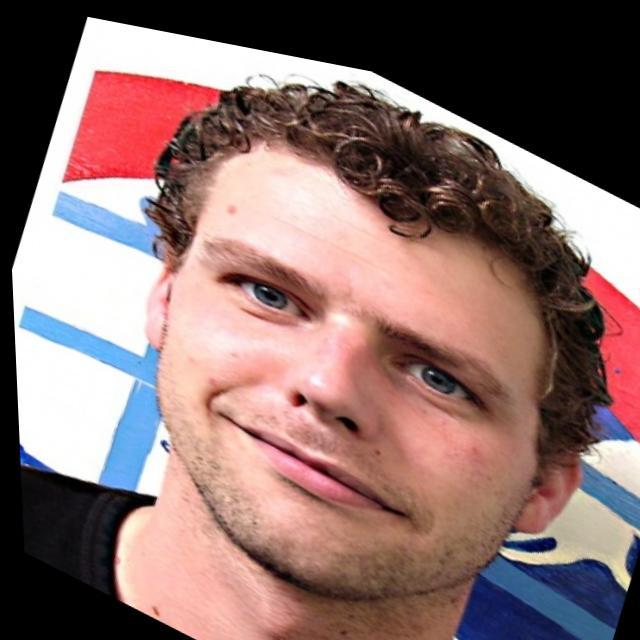Nonhelmet: (132, 72, 618, 602)
